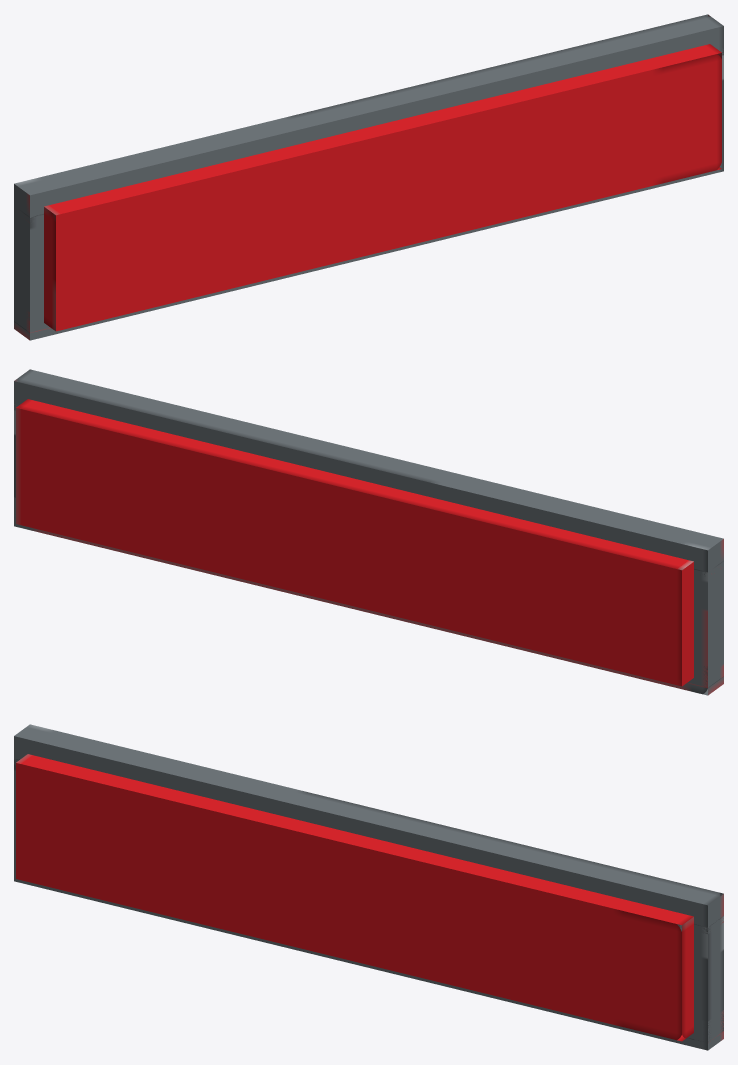
The model's file is nl_station_sign_wall_rnet.obj.
3 renders of one model, top to bottom at view 1: azimuth 30°, elevation 25°; view 2: azimuth 150°, elevation 25°; view 3: azimuth 330°, elevation 25°, orthographic.
Parts seen in each view (by area): view 1: sign_back, pole_top, pole_right; view 2: sign_front, pole_top, pole_right; view 3: sign_back, pole_top, pole_left.
Part boxes in pixels (bbox=[...]): sign_back: bbox=[44, 44, 721, 331]; pole_top: bbox=[14, 14, 723, 340]; pole_right: bbox=[14, 205, 50, 333]; sign_front: bbox=[16, 399, 693, 686]; pole_top: bbox=[14, 369, 723, 695]; pole_right: bbox=[687, 560, 723, 688]; sign_back: bbox=[16, 754, 693, 1041]; pole_top: bbox=[14, 724, 723, 1050]; pole_left: bbox=[680, 915, 723, 1042].
Bounding box in the file's own units: 3.12 × 0.625 × 0.3125.
Materials: 1 (1 with a texture image).
